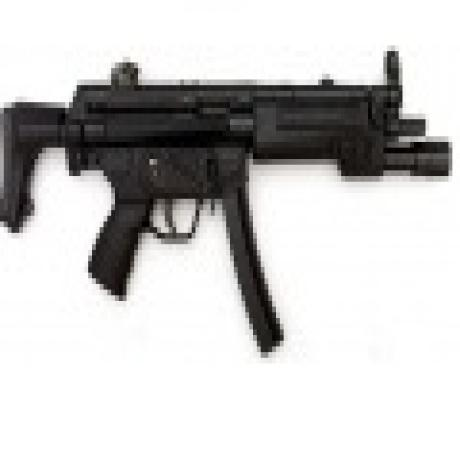weapon: (1, 59, 453, 364)
